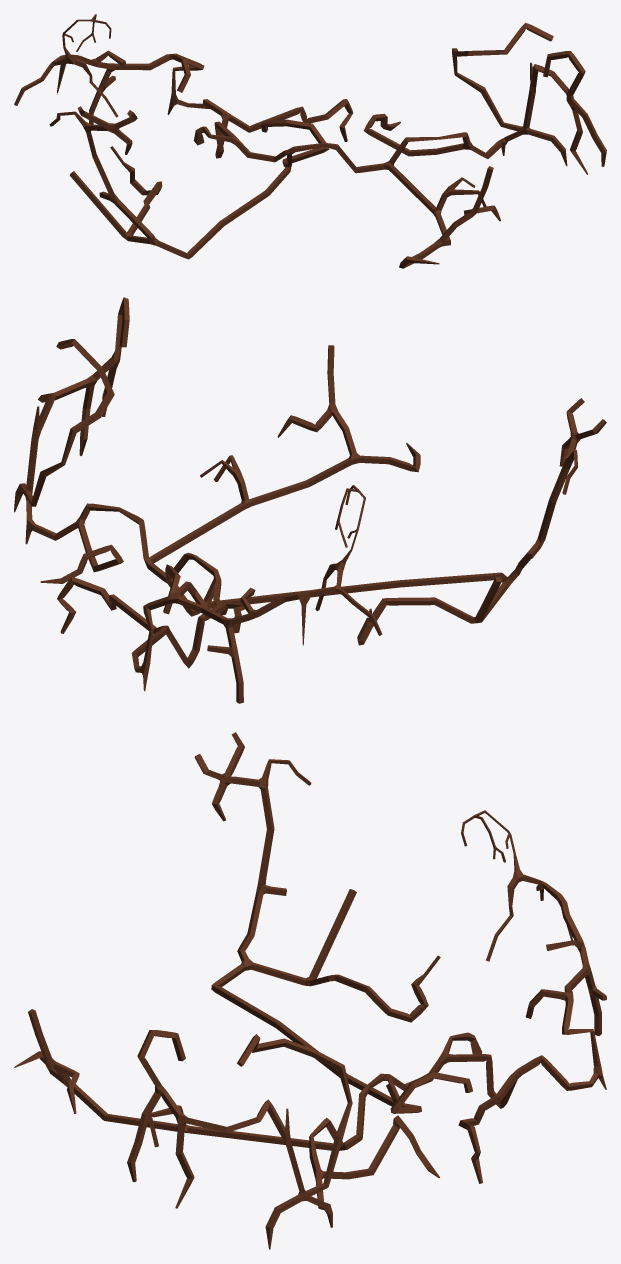
Rendered from galezie.fbx.
The picture shows the model from 3 angles, top to bottom: view 1: azimuth 30°, elevation 25°; view 2: azimuth 150°, elevation 25°; view 3: azimuth 270°, elevation 25°; orthographic projection. The views are drawn at different scales.
Parts seen in each view (by area): view 1: Vert; view 2: Vert; view 3: Vert.
Boxes of the visible parts, x1,y1,x2,y2 form: Vert: (14,14,606,268); Vert: (14,297,606,703); Vert: (14,732,606,1249).
Size of the model in its own units: 268 by 103 by 231.
